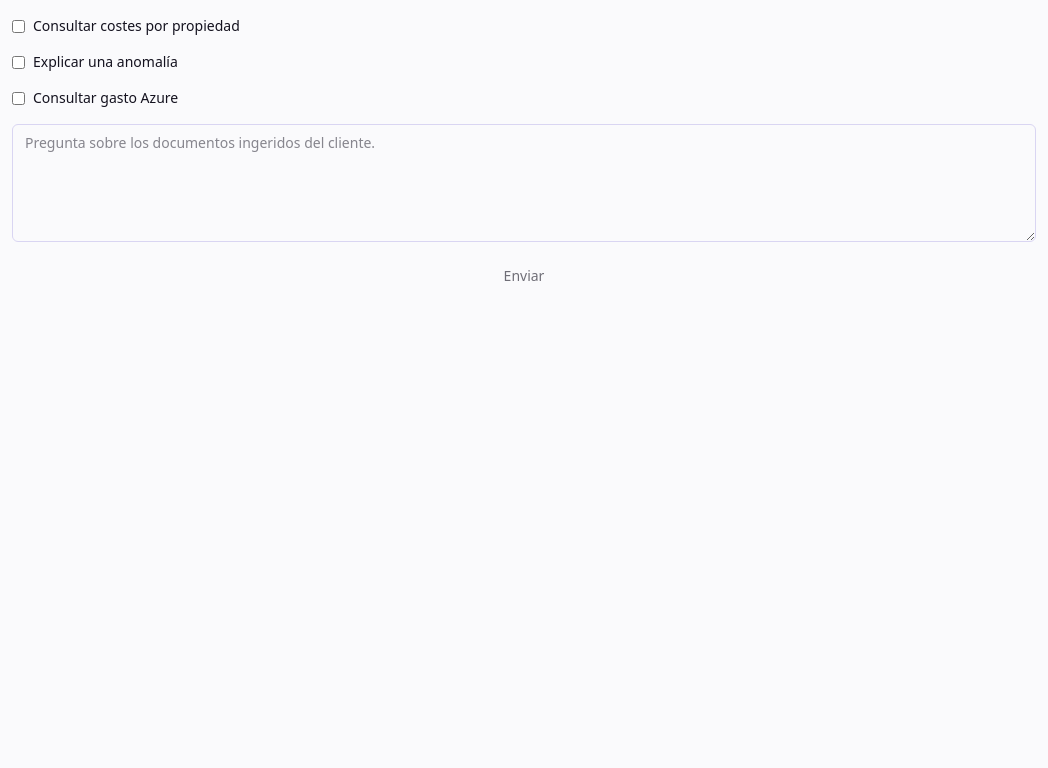
MessageComposer y la fecha de referencia: Consultar costes por propiedad › indica el mes de la fecha de referencia como periodo por defecto, no el del reloj del navegador
What coordinates should you click on to do the following:
click the checkbox labelled "Consultar costes por propiedad"
I would click on:
 (18, 26)
Its box is 12,20 -> 25,32.
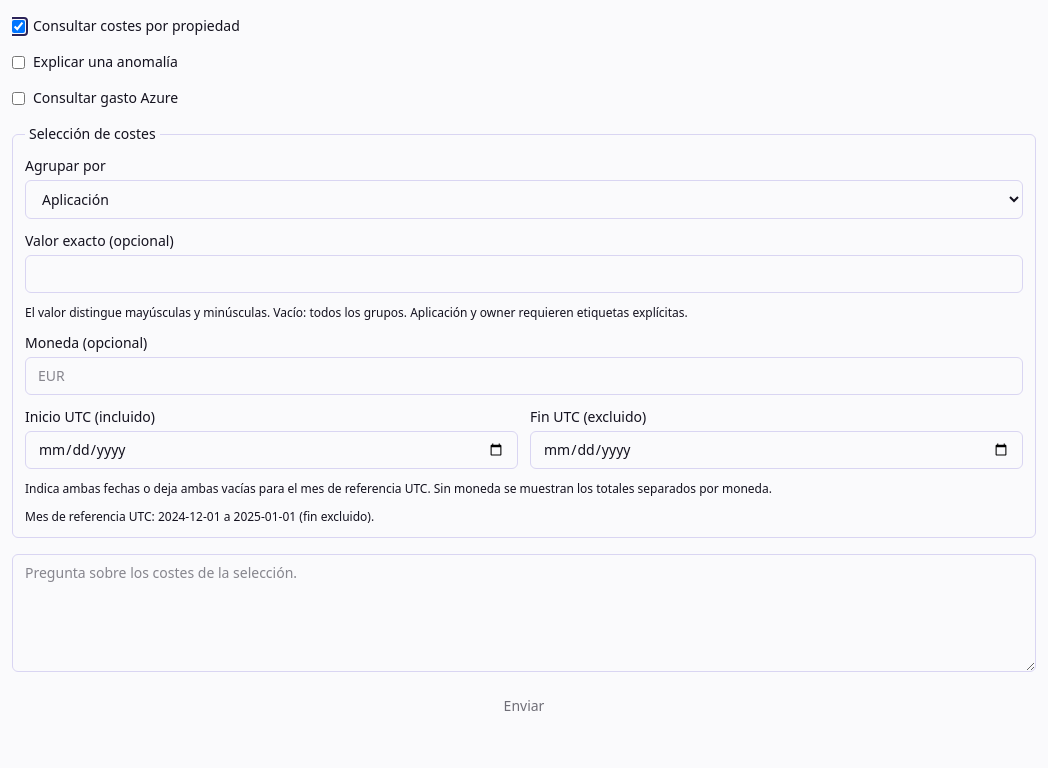
Expected: the text "Mes de referencia UTC: 2024-12-01 a 2025-01-01 (fin excluido)." is shown, 25,508 -> 374,525
